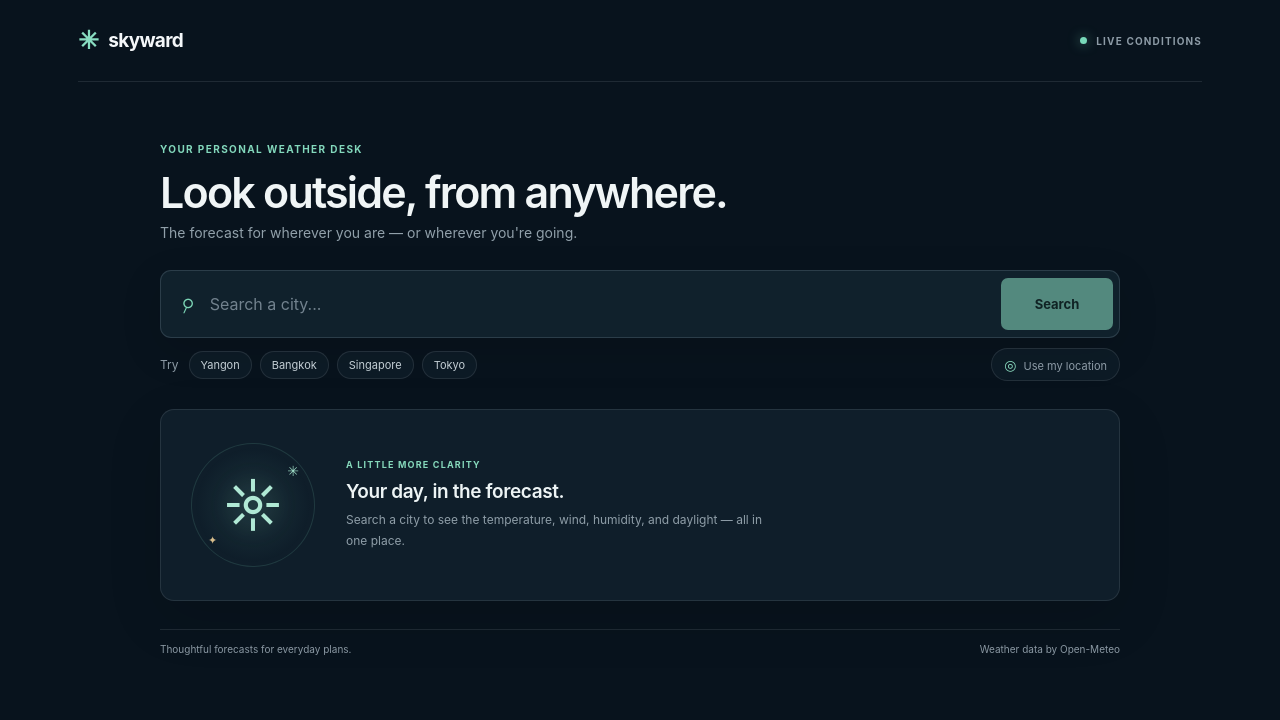
Test case: uses the device coordinates for a current-location search
Click the button "◎ Use my location".
click(1056, 365)  # box [991, 348, 1120, 381]
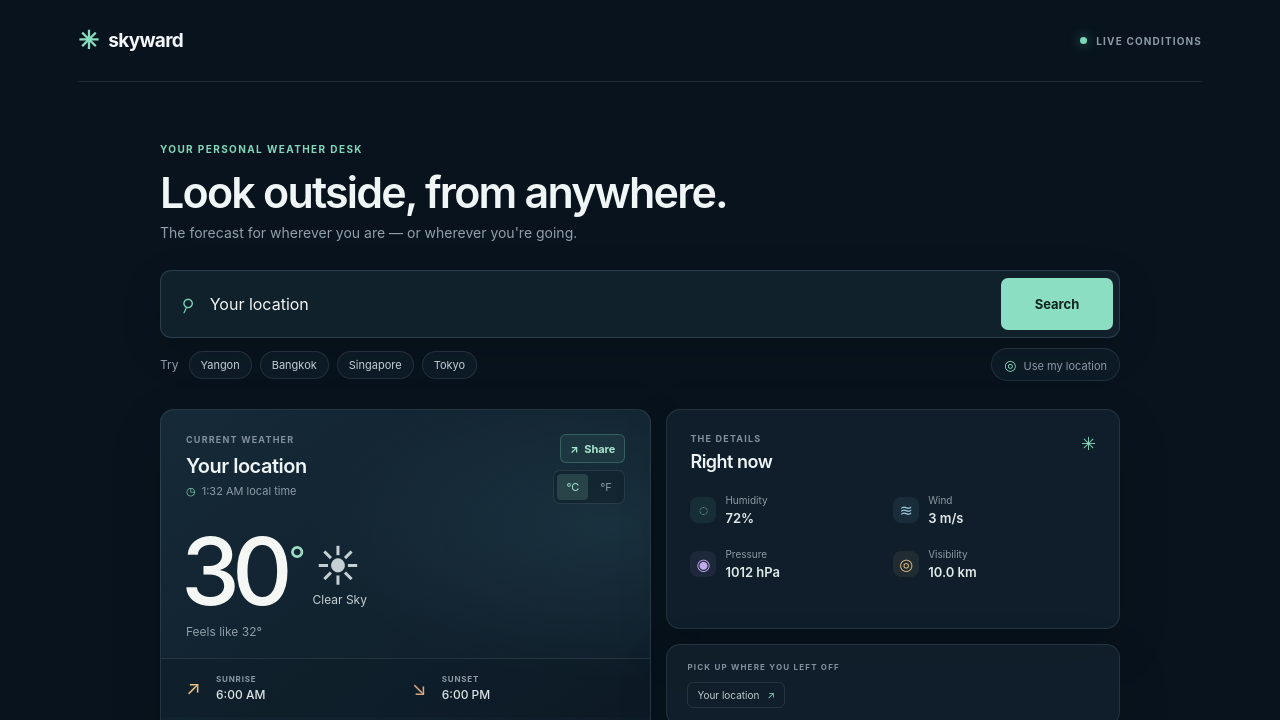
Result: the heading "Your location" is shown at [186, 454, 307, 478]
